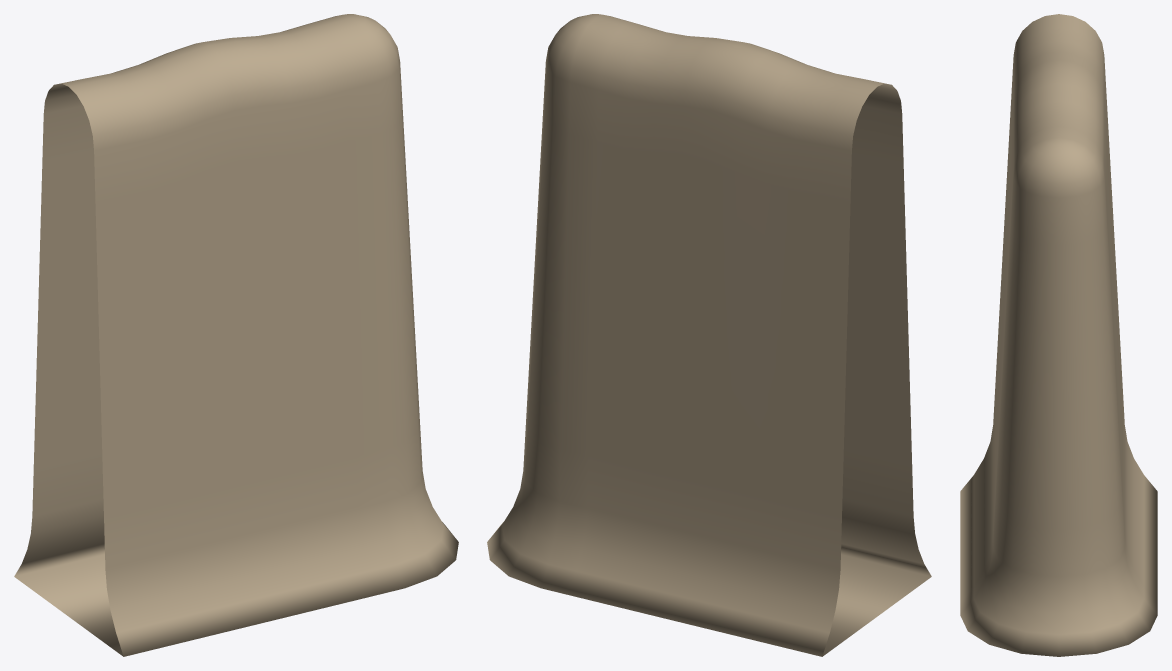
The model's file is KFB_Wall_end.r3.glb.
3 renders of one model, left to right at view 1: azimuth 30°, elevation 25°; view 2: azimuth 150°, elevation 25°; view 3: azimuth 270°, elevation 25°, orthographic. The views are drawn at different scales.
Visible parts, largest first — view 1: KFB_Wall_end; view 2: KFB_Wall_end; view 3: KFB_Wall_end.
Boxes of the visible parts, x1,y1,x2,y2 form: KFB_Wall_end: (14, 14, 458, 656); KFB_Wall_end: (487, 14, 931, 656); KFB_Wall_end: (960, 14, 1157, 656).
Size of the model in its own units: 2.68 by 3.65 by 1.35.
